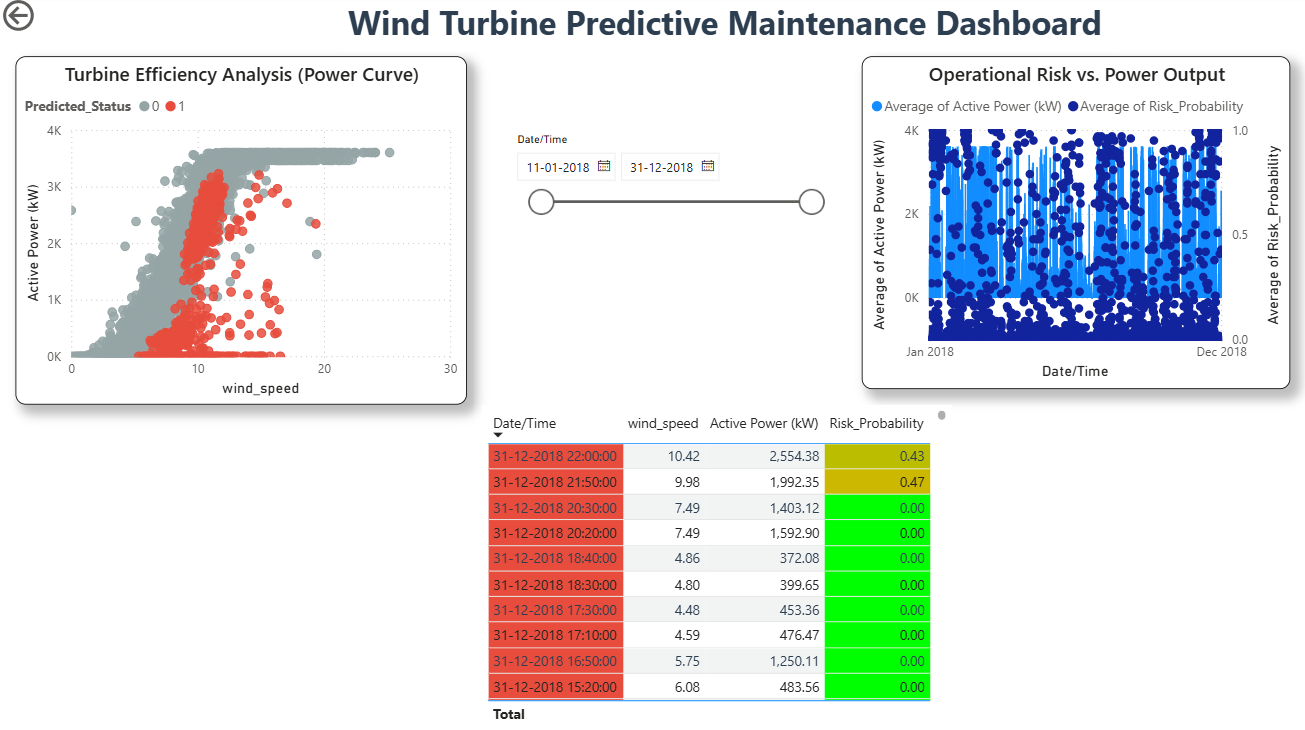

The dashboard page shown, as its layout file describes it:
{"tool":"powerbi","page":{"name":"Page 1","canvas":[1280,720],"ordinal":0},"visuals":[{"type":"actionButton","box":[0,0,100,40],"z":3},{"type":"scatterChart","title":"Turbine Efficiency Analysis (Power Curve)","fields":{"X":["final_turbine_predictions.wind_speed"],"Y":["final_turbine_predictions.Active Power (kW)"],"Series":["final_turbine_predictions.Predicted_Status"]},"box":[17.1,59.9,443.9,358.3],"z":4},{"type":"lineClusteredColumnComboChart","fields":{"Category":["final_turbine_predictions.Date/Time"],"Y":["Avg(final_turbine_predictions.Active Power (kW))"],"Y2":["Avg(final_turbine_predictions.Risk_Probability)"]},"box":[867,55,395,325.3],"z":5},{"type":"tableEx","fields":{"Values":["final_turbine_predictions.Date/Time","final_turbine_predictions.wind_speed","final_turbine_predictions.Active Power (kW)","final_turbine_predictions.Risk_Probability"]},"box":[473.2,401.1,459.8,319.2],"z":6},{"type":"textbox","box":[337.5,0,758.2,55],"z":7},{"type":"slicer","fields":{"Values":["final_turbine_predictions.Date/Time"]},"box":[495.2,129.6,321.6,100.3],"z":8}]}

Visuals, with their boxes in screenshot pixels (x1, y1, x2, y2), scaled from the page's 1280x720 canvas onto the 1305x730 screenshot:
actionButton: <box>0,0,102,41</box>
"Turbine Efficiency Analysis (Power Curve)" scatterChart: <box>17,61,470,424</box>
lineClusteredColumnComboChart - final_turbine_predictions.Date/Time x Avg(final_turbine_predictions.Active Power (kW)): <box>884,56,1287,386</box>
tableEx - final_turbine_predictions.Date/Time x final_turbine_predictions.wind_speed: <box>482,407,951,729</box>
textbox: <box>344,0,1117,56</box>
slicer - final_turbine_predictions.Date/Time: <box>505,131,833,233</box>
